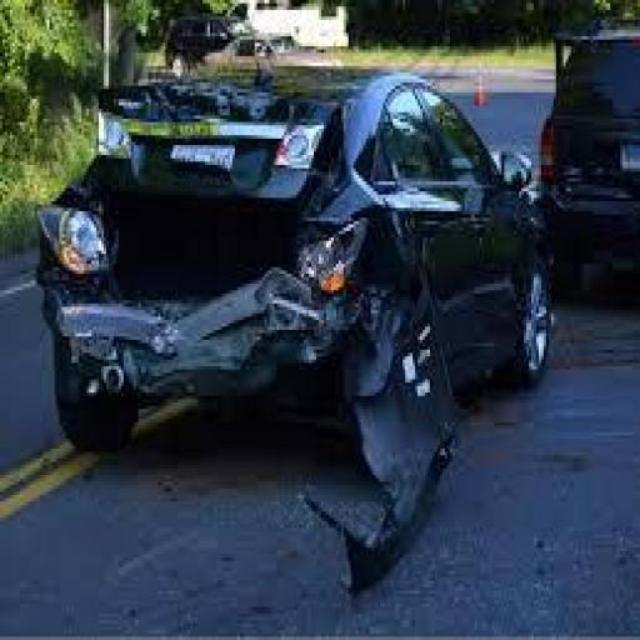no part: (34, 91, 447, 592)
